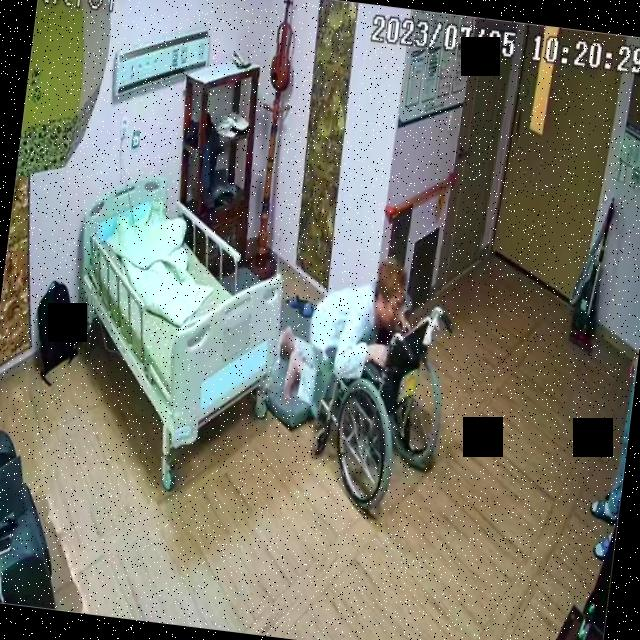fall: (270, 245, 418, 428)
patient: (270, 245, 418, 427)
wheelchair: (306, 293, 456, 517)
